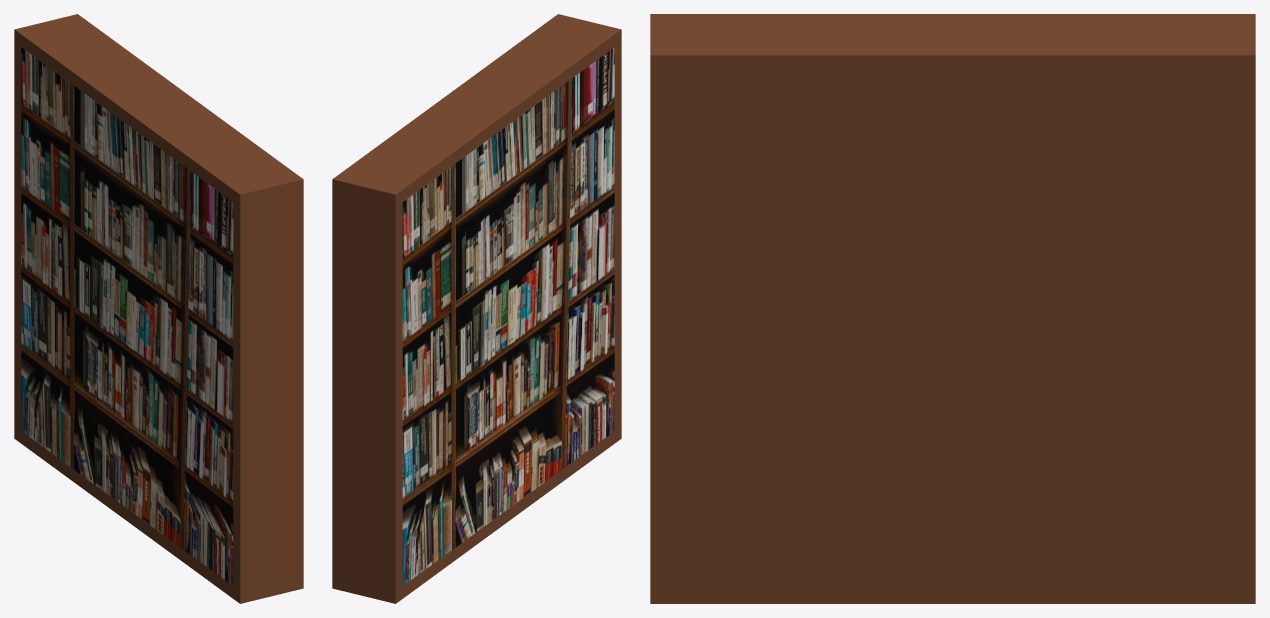
Rendered from Bookshelf.fbx.
3 views of the same model, side by side, from view 1: azimuth 30°, elevation 25°; view 2: azimuth 150°, elevation 25°; view 3: azimuth 270°, elevation 25° (orthographic). The views are drawn at different scales.
Parts seen in each view (by area): view 1: bookshelf; view 2: bookshelf; view 3: bookshelf.
Boxes of the visible parts, x1=… form: bookshelf: x1=14, y1=14, x2=303, y2=603; bookshelf: x1=332, y1=14, x2=621, y2=603; bookshelf: x1=650, y1=14, x2=1255, y2=603.
Size of the model in its own units: 107 by 662 by 662.
